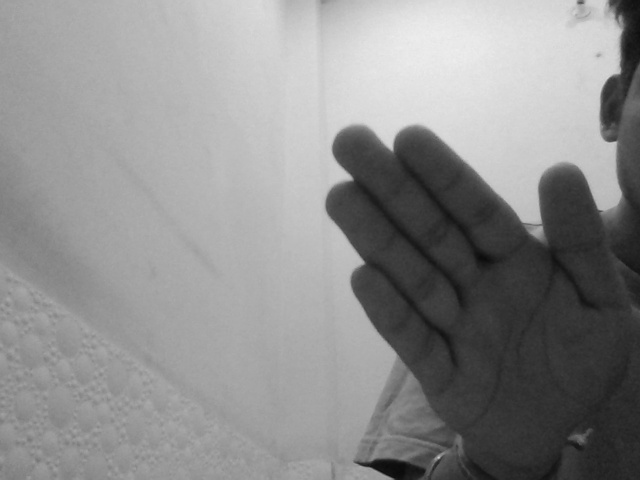Hello: (319, 122, 631, 468)
